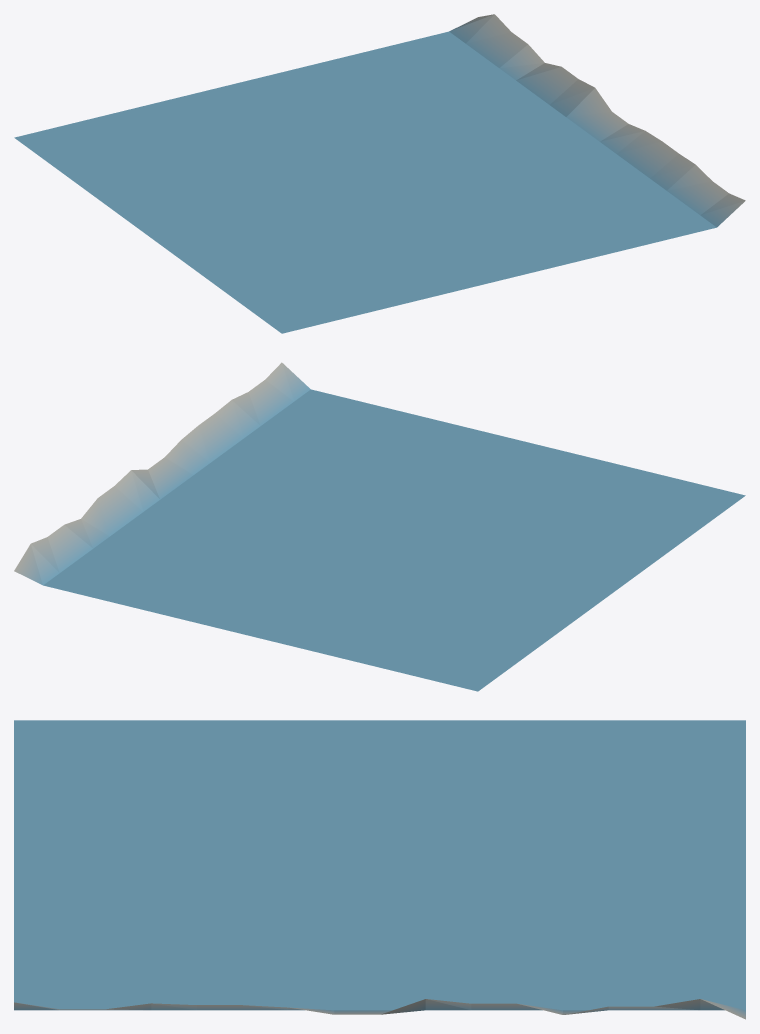
The picture shows the model from 3 angles, top to bottom: view 1: azimuth 30°, elevation 25°; view 2: azimuth 150°, elevation 25°; view 3: azimuth 270°, elevation 25°; orthographic projection. The views are drawn at different scales.
Size of the model in its own units: 32 by 1.48 by 32.
